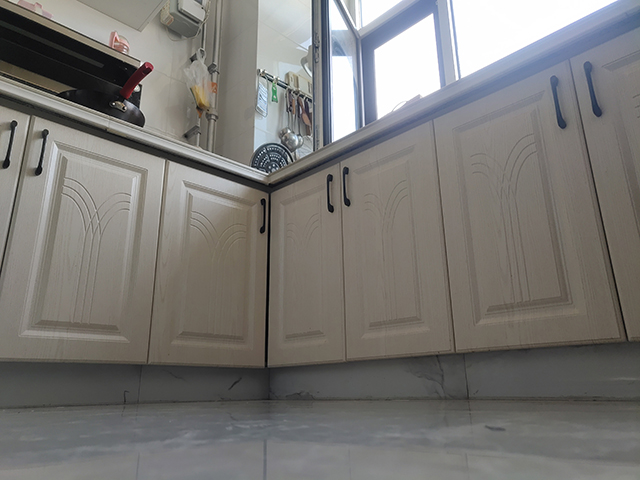cabinet: (265, 1, 640, 395), (1, 103, 267, 397)
